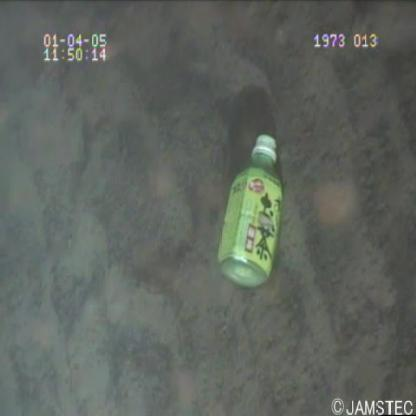Rác: (211, 132, 294, 302)
